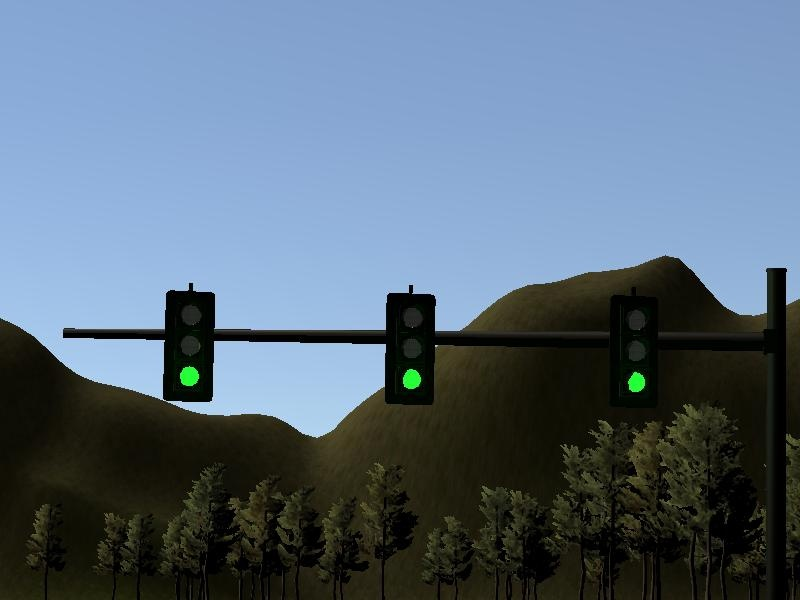green: (161, 279, 219, 402), (601, 289, 659, 404), (380, 294, 438, 408)
